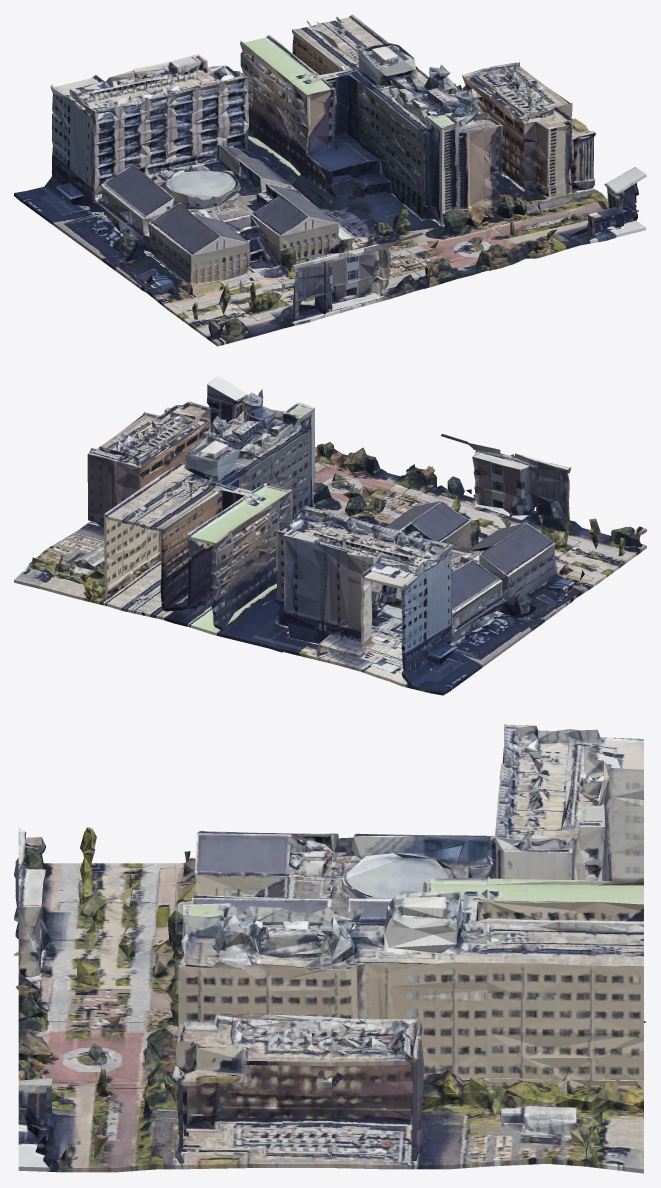
File: Split24.fbx
3 views of the same model, one above another, from view 1: azimuth 30°, elevation 25°; view 2: azimuth 150°, elevation 25°; view 3: azimuth 270°, elevation 25° (orthographic). The views are drawn at different scales.
Visible parts, largest first — view 1: BuildingMesh-00002; view 2: BuildingMesh-00002; view 3: BuildingMesh-00002.
Boxes of the visible parts, x1,y1,x2,y2 form: BuildingMesh-00002: [14, 14, 646, 346]; BuildingMesh-00002: [14, 375, 646, 695]; BuildingMesh-00002: [14, 724, 646, 1173].
Bounding box in the file's own units: 195 × 56.46 × 162.
Materials: 6 (6 with a texture image).
